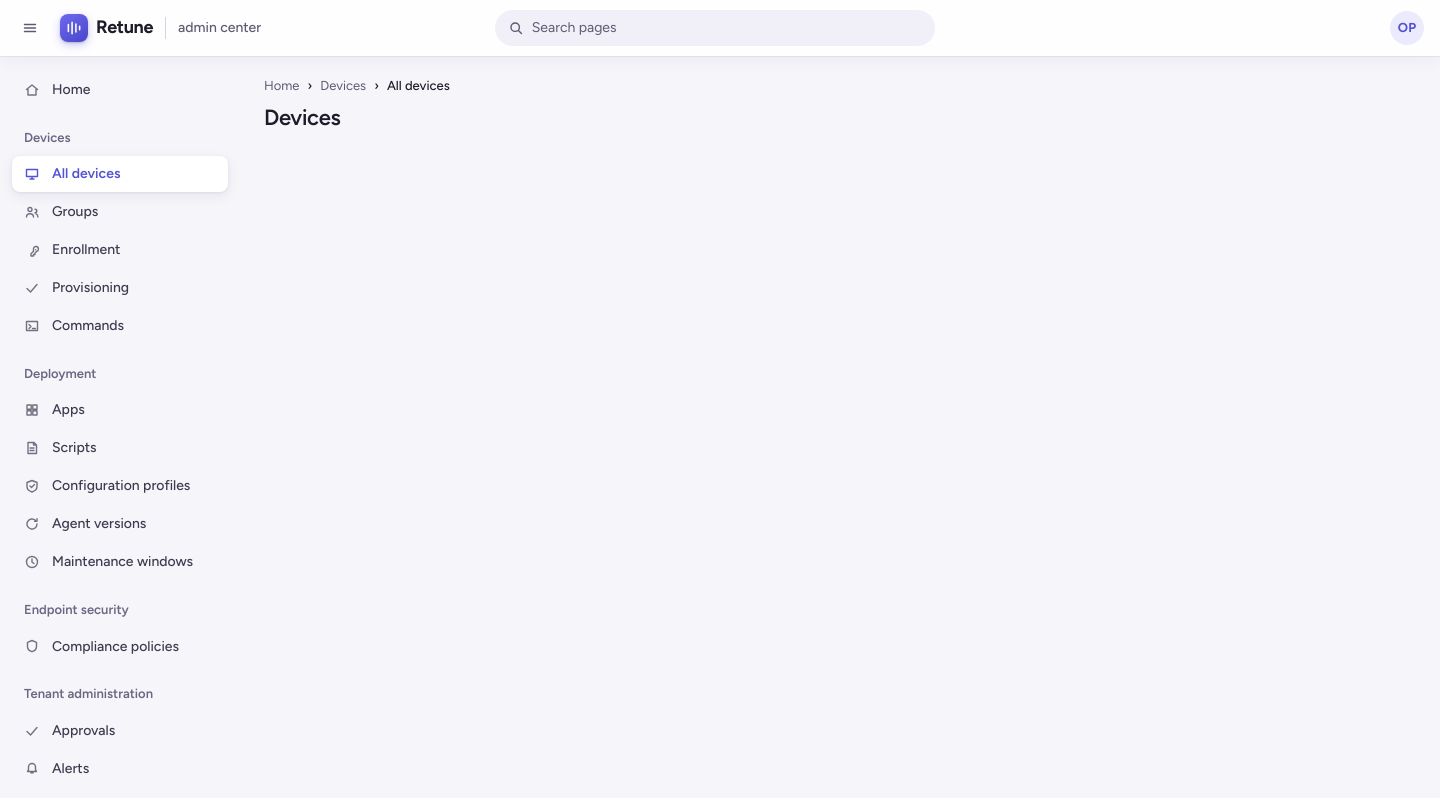
Test: Shell › searches the pages rather than pretending to search the fleet
Type "compl" into the search field labelled "Search pages".
click(727, 28); type("compl")  # box 532,17 -> 922,39
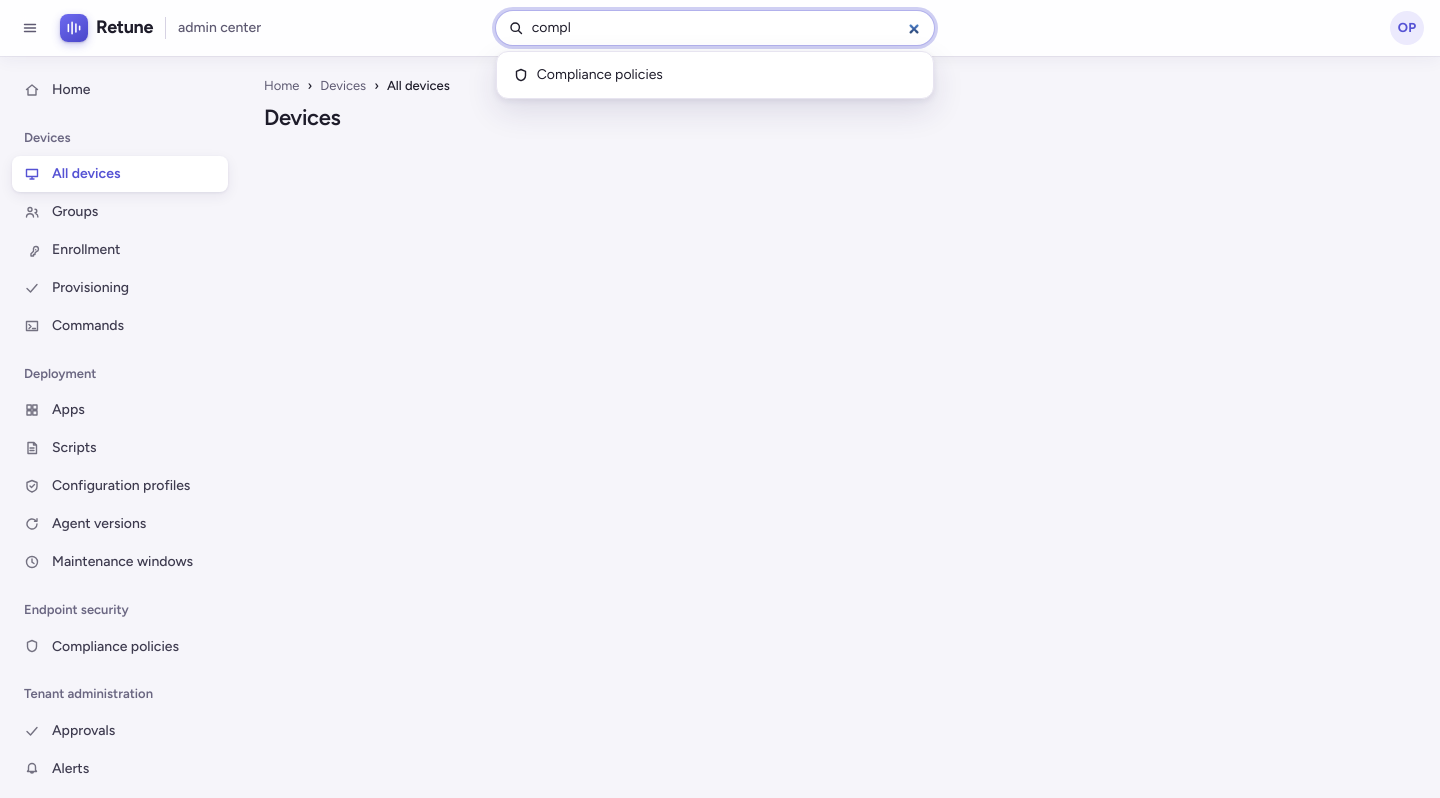
Expected: the button "Compliance policies" is shown
Click the button "Compliance policies".
click(600, 74)  # box 501,56 -> 929,94
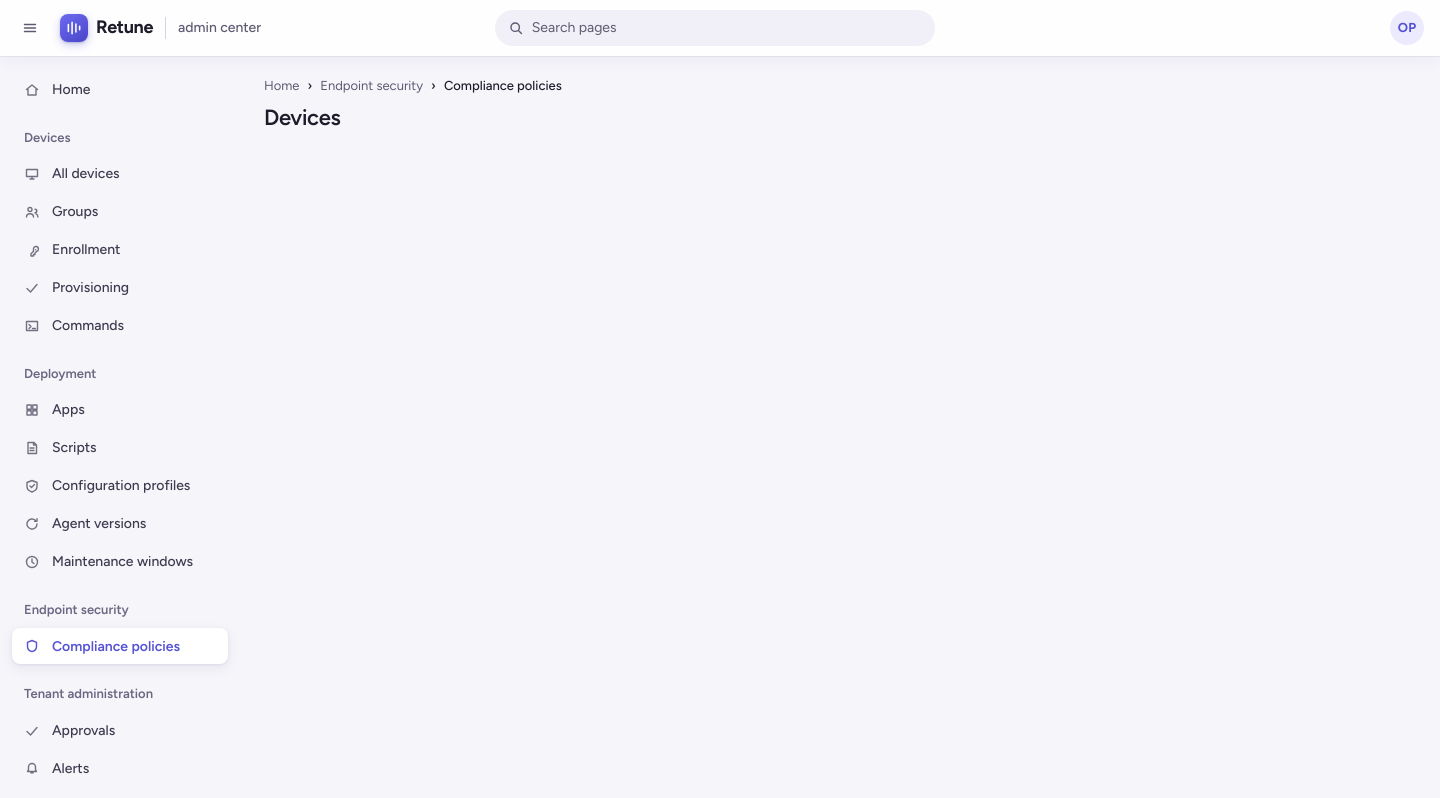
Expected: the navigation bar named "Breadcrumb" shows "Compliance policies", 444,78 -> 562,93
